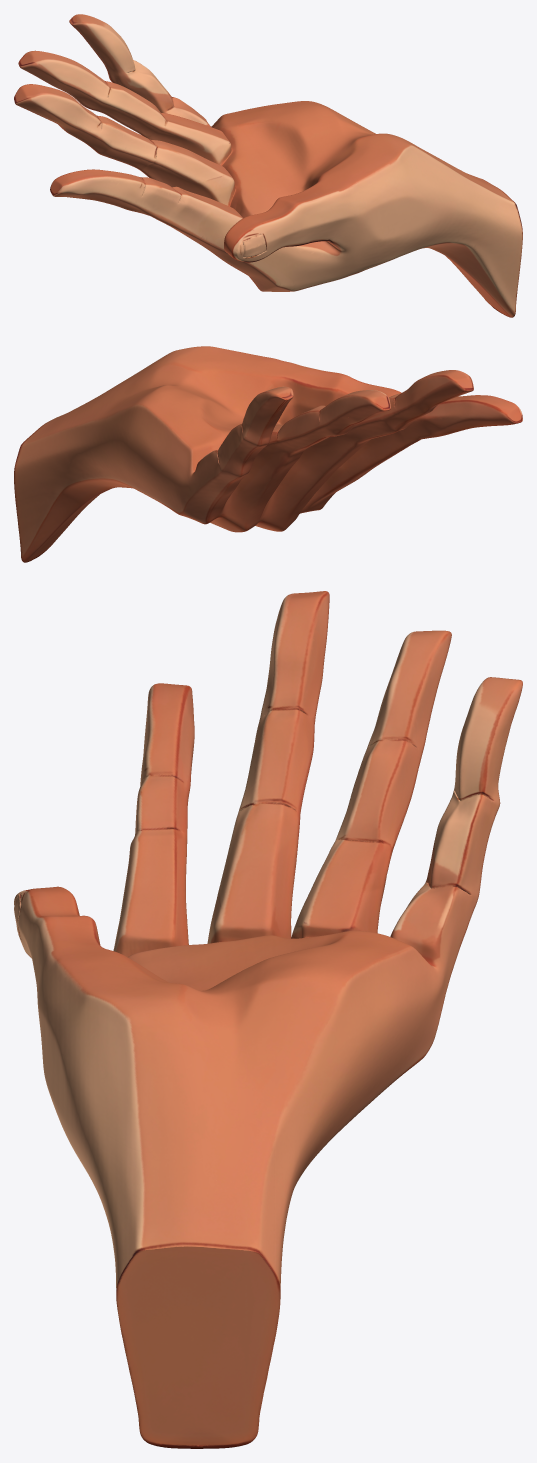
The model's file is palm.glb.
3 renders of one model, top to bottom at view 1: azimuth 30°, elevation 25°; view 2: azimuth 150°, elevation 25°; view 3: azimuth 270°, elevation 25°, orthographic. The views are drawn at different scales.
Parts seen in each view (by area): view 1: tripo_node_a73a88ad-7aff-49a7-b4d6-3448228224f2; view 2: tripo_node_a73a88ad-7aff-49a7-b4d6-3448228224f2; view 3: tripo_node_a73a88ad-7aff-49a7-b4d6-3448228224f2.
Part boxes in pixels (x1=…): tripo_node_a73a88ad-7aff-49a7-b4d6-3448228224f2: x1=14, y1=14, x2=522, y2=317; tripo_node_a73a88ad-7aff-49a7-b4d6-3448228224f2: x1=14, y1=346, x2=522, y2=562; tripo_node_a73a88ad-7aff-49a7-b4d6-3448228224f2: x1=14, y1=591, x2=522, y2=1448.
Size of the model in its own units: 0.9778 by 0.6255 by 0.57.
Materials: 1 (1 with a texture image).
